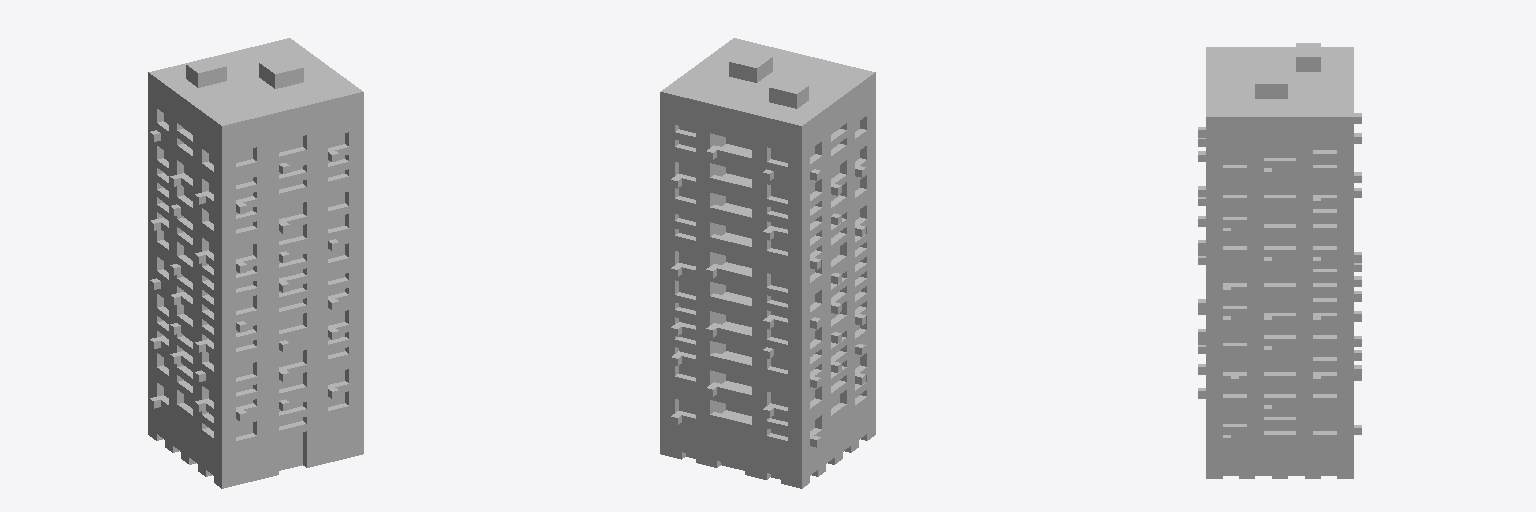
The model's file is panel.3.obj.
3 renders of one model, left to right at view 1: azimuth 30°, elevation 25°; view 2: azimuth 150°, elevation 25°; view 3: azimuth 270°, elevation 25°, orthographic.
Bounding box in the file's own units: 22 × 51 × 20.